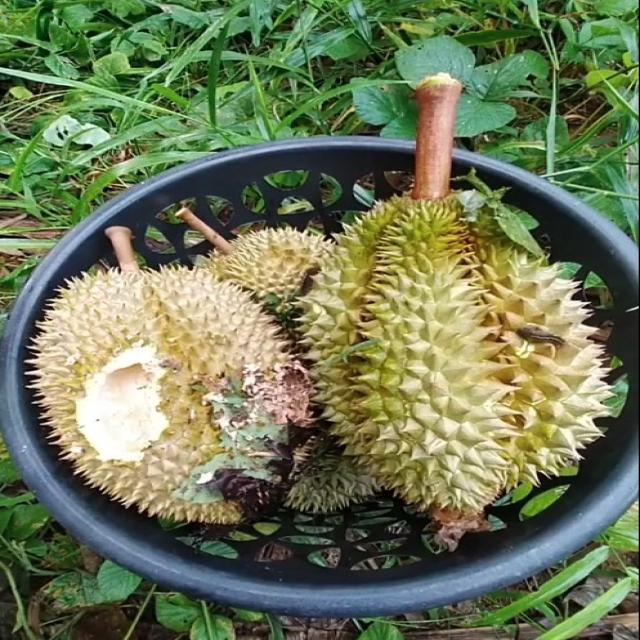defective: (26, 261, 310, 528)
immature: (299, 190, 616, 523)
